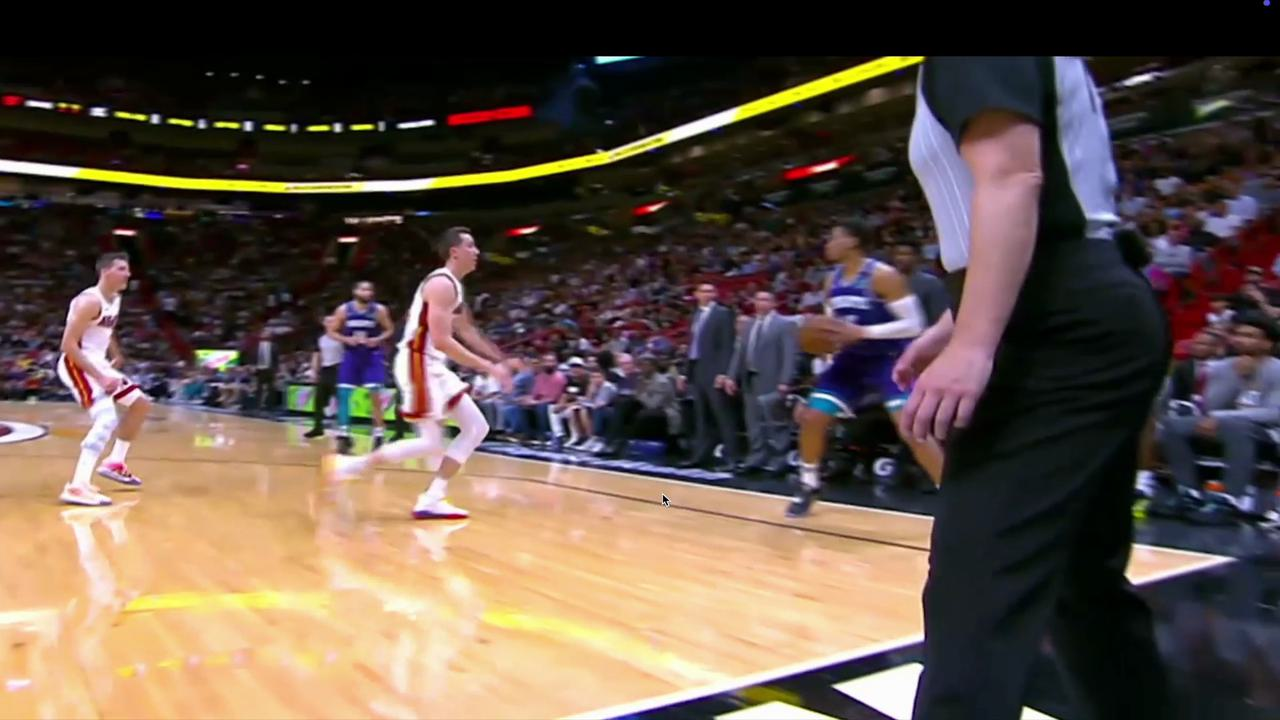‘foul_moment’: (813, 219, 919, 513), (398, 215, 491, 531), (44, 242, 153, 498)
